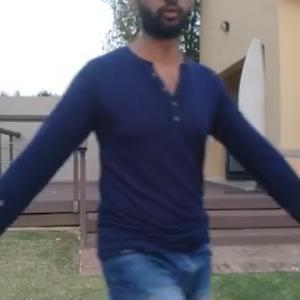land: (8, 5, 299, 289)
